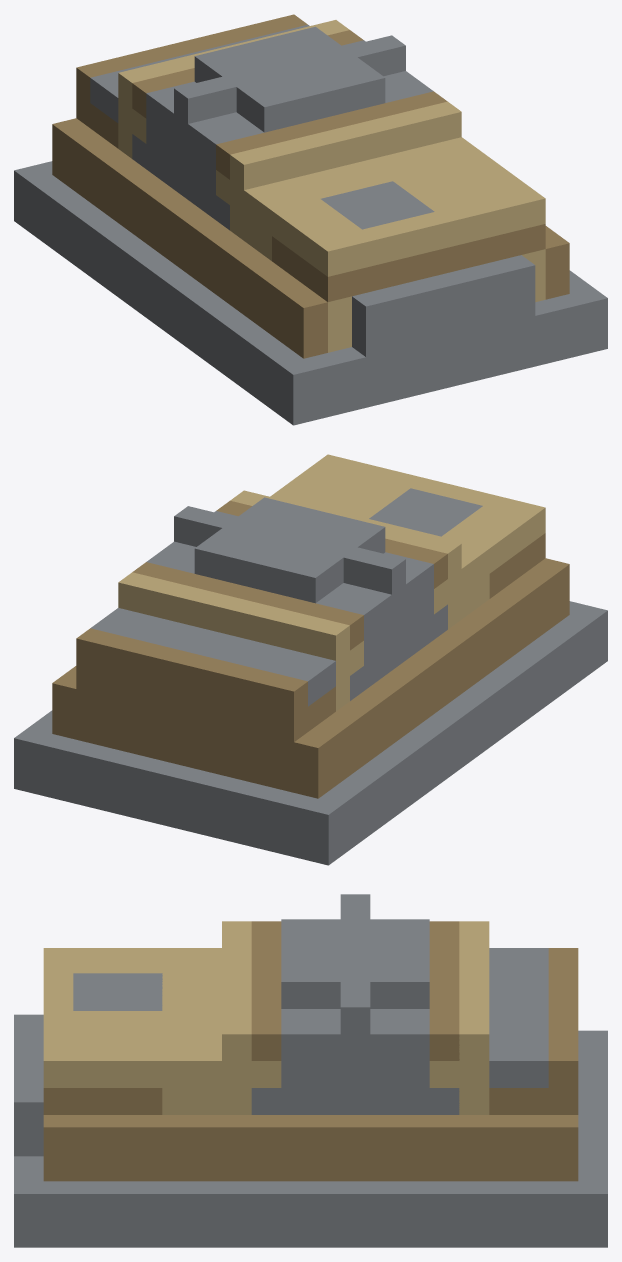
Rendered from foot_l.glb.
3 views of the same model, one above another, from view 1: azimuth 30°, elevation 25°; view 2: azimuth 150°, elevation 25°; view 3: azimuth 270°, elevation 25° (orthographic). The views are drawn at different scales.
Size of the model in its own units: 13 by 8 by 20.
